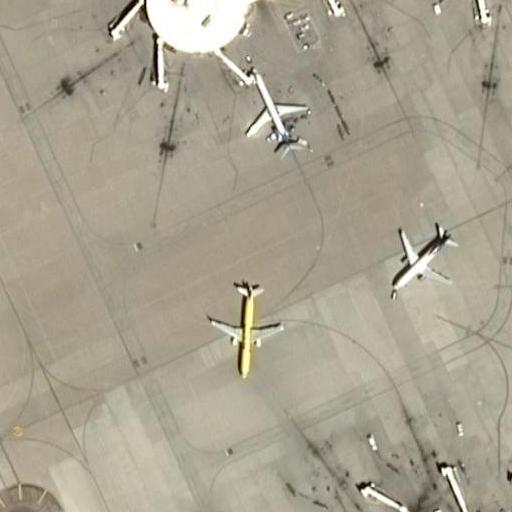Aircraft: (203, 281, 281, 373), (242, 69, 307, 152), (386, 219, 456, 292)
